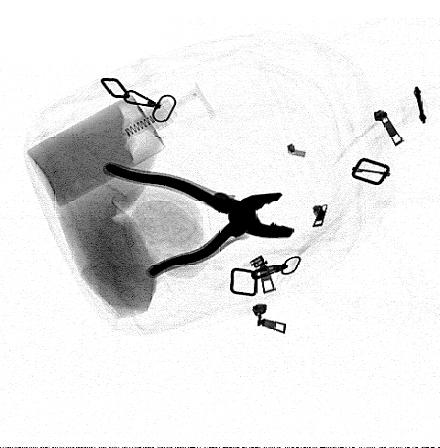Pliers: (103, 161, 298, 281)
